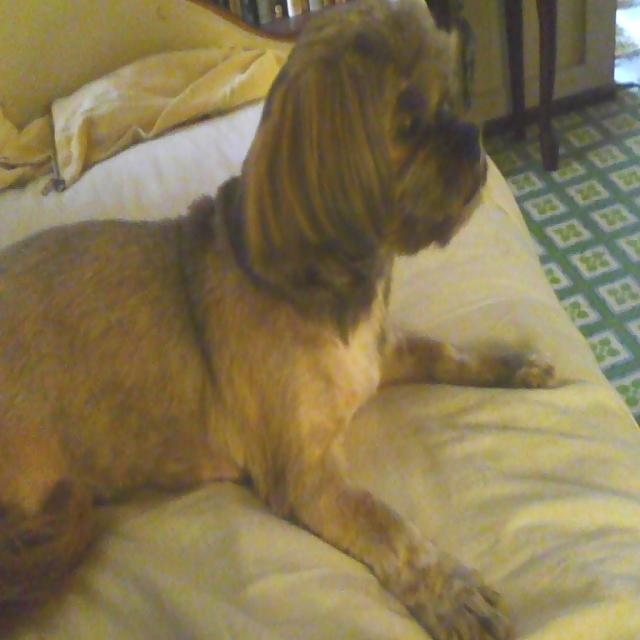Dog: (0, 0, 557, 639)
